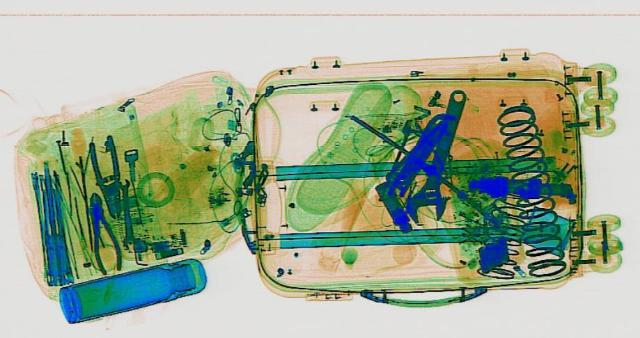Pliers: (77, 189, 126, 272), (84, 134, 128, 216)
Wrench: (401, 87, 477, 223), (114, 176, 136, 245)
